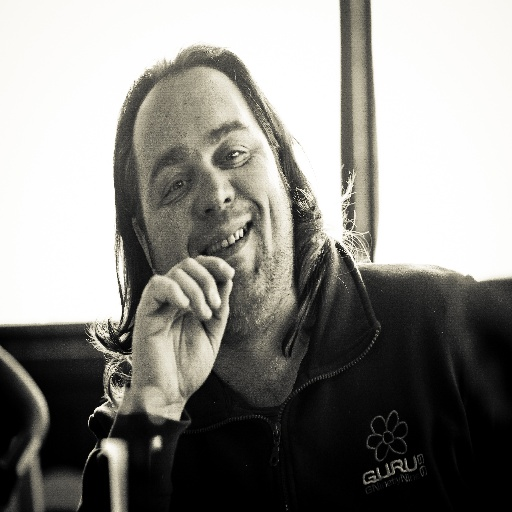hand: (121, 257, 240, 410)
